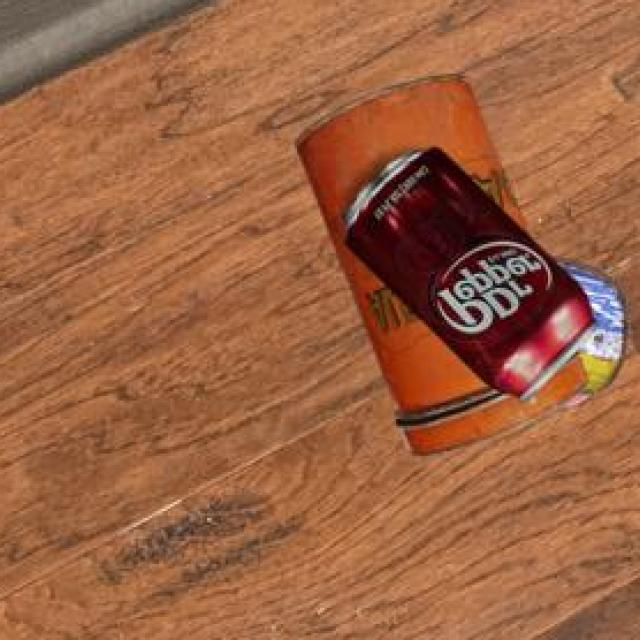logam: (300, 73, 591, 452), (349, 144, 602, 397), (557, 254, 632, 404)
